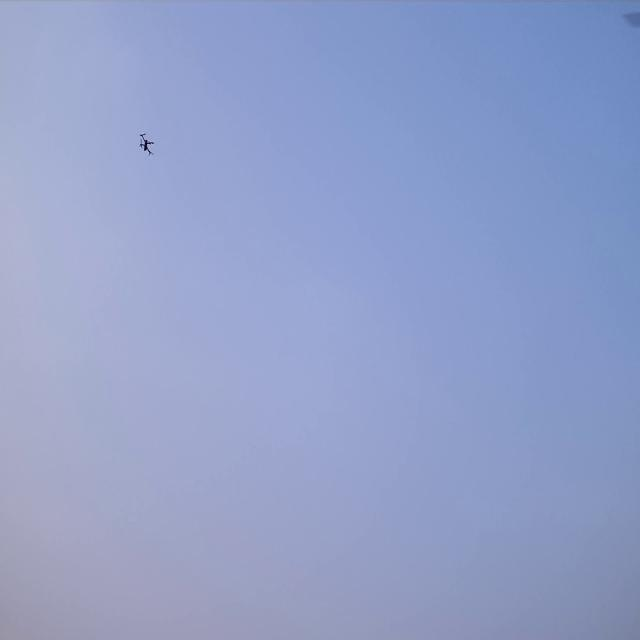UAV: (138, 131, 156, 159)
